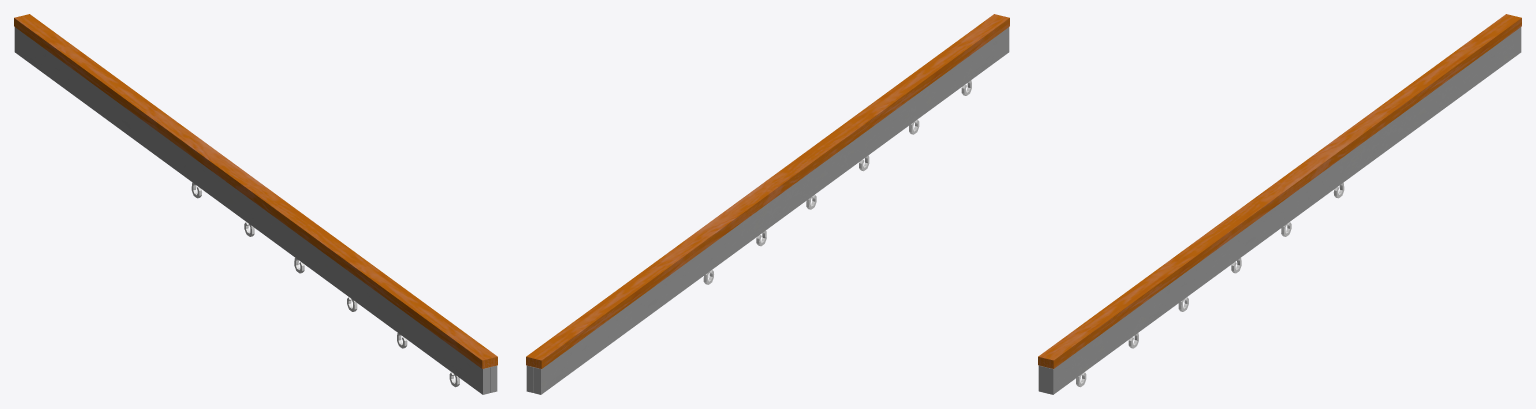
File: Swing disc positions attachment.glb
3 renders of one model, left to right at view 1: azimuth 30°, elevation 25°; view 2: azimuth 150°, elevation 25°; view 3: azimuth 330°, elevation 25°, orthographic.
Parts seen in each view (by area): view 1: Swing disc attachment; view 2: Swing disc attachment; view 3: Swing disc attachment.
Boxes of the visible parts, x1,y1,x2,y2 form: Swing disc attachment: [14, 14, 497, 394]; Swing disc attachment: [526, 14, 1009, 394]; Swing disc attachment: [1038, 14, 1521, 394].
Bounding box in the file's own units: 0.1104 × 0.3563 × 5.72.
Materials: 1 (1 with a texture image).
